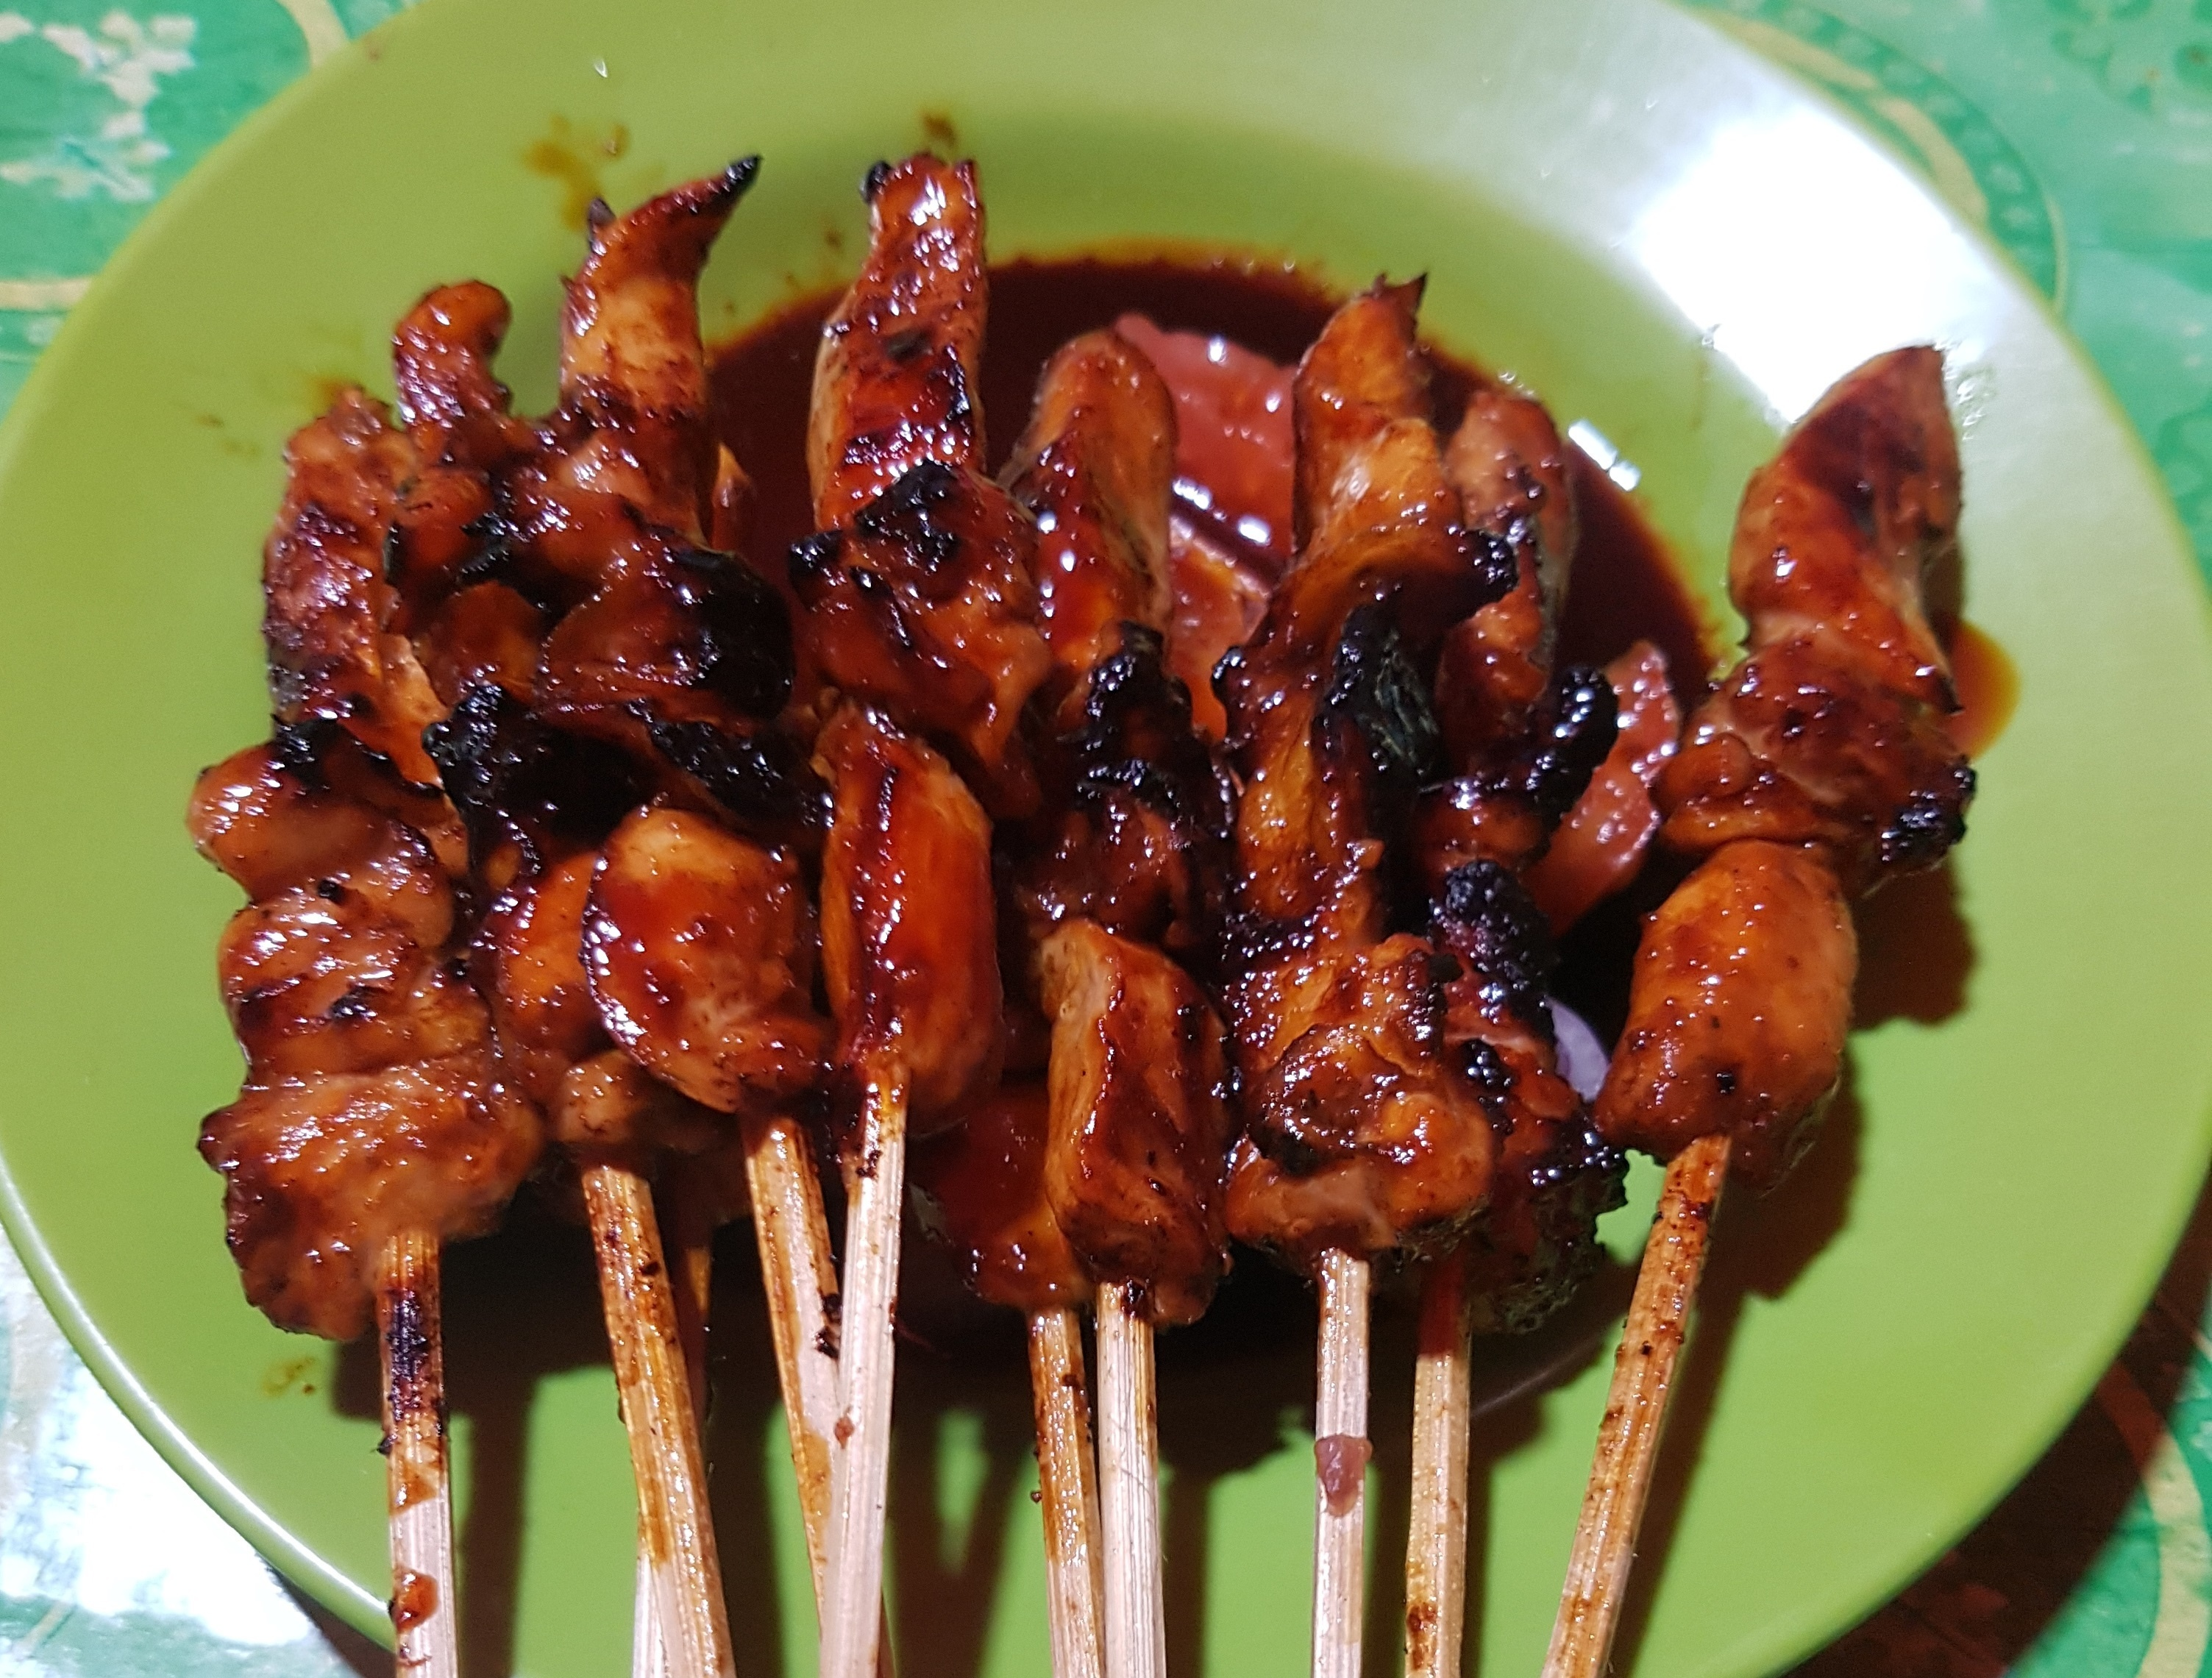sate: (173, 141, 1985, 1435)
